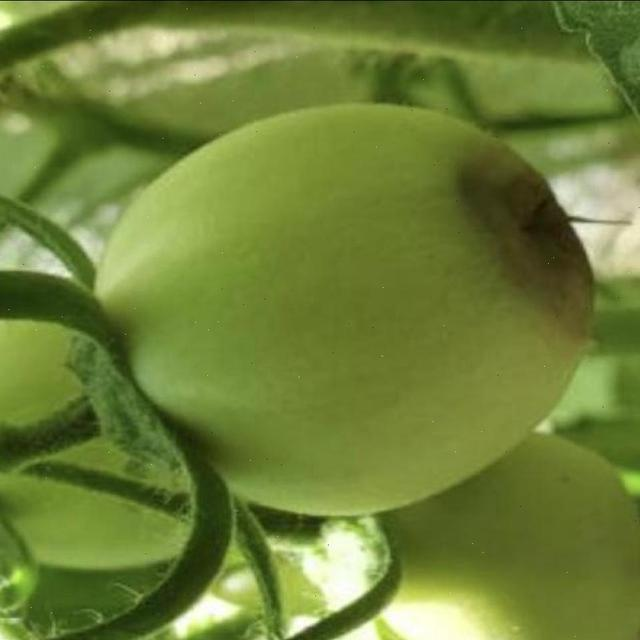Blossom End Rot Fruit: (282, 89, 426, 226)
